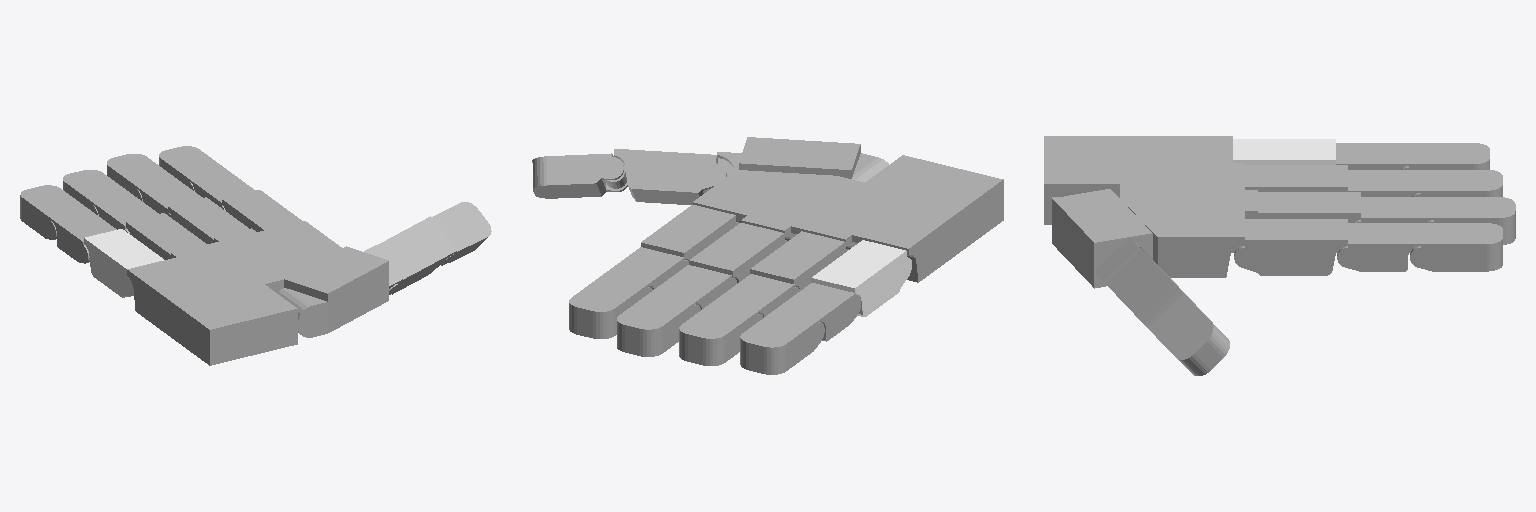
The robot description file, URDF, robot "f_tac_hand":
<?xml version="1.0"?>
<!-- This URDF was automatically created by SolidWorks to URDF Exporter! Originally created by
[author] ([email redacted])
     Commit Version: 1.6.0-1-g15f4949  Build Version: 1.6.7594.29634
     For more information, please see http://wiki.ros.org/sw_urdf_exporter -->
<robot
  name="f_tac_hand">
  <link name="base_link">
    <inertial>
      <origin
        xyz="0 0 0"
        rpy="0 0 0" />
      <mass
        value="0.10701" />
      <inertia
        ixx="4.0664E-05"
        ixy="6.4038E-08"
        ixz="1.9177E-06"
        iyy="5.6479E-05"
        iyz="7.7345E-07"
        izz="2.2587E-05" />
    </inertial>
    <visual>
      <origin
        xyz="0 0 0"
        rpy="0 0 0" />
      <geometry>
        <mesh
          filename="../meshes/base_link_rigid.obj" />
      </geometry>
      <material
        name="">
        <color
          rgba="0.75294 0.75294 0.75294 1" />
      </material>
    </visual>
    <collision>
      <origin
        xyz="0 0 0"
        rpy="0 0 0" />
      <geometry>
        <mesh
          filename="../meshes/base_link_rigid.obj" />
      </geometry>
    </collision>
  </link>
  <link
    name="thumb_1">
    <inertial>
      <origin
        xyz="0.0213809512788237 0.00830288099446848 -0.0368934211825852"
        rpy="0 0 0" />
      <mass
        value="0.0302068698189258" />
      <inertia
        ixx="4.47273437130782E-06"
        ixy="-2.41343638990869E-06"
        ixz="-2.18553315619696E-06"
        iyy="9.08198924826877E-06"
        iyz="-9.32985999670422E-07"
        izz="8.77443016411273E-06" />
    </inertial>
    <visual>
      <origin
        xyz="0 0 0"
        rpy="0 0 0" />
      <geometry>
        <mesh
          filename="../meshes/thumb_1_rigid.obj" />
      </geometry>
      <material
        name="">
        <color
          rgba="0.752941176470588 0.752941176470588 0.752941176470588 1" />
      </material>
    </visual>
    <collision>
      <origin
        xyz="0 0 0"
        rpy="0 0 0" />
      <geometry>
        <mesh
          filename="../meshes/thumb_1_rigid.obj" />
      </geometry>
    </collision>
  </link>
  <joint
    name="thumb_1"
    type="revolute">
    <origin
      xyz="0.0096545 -0.041173 0.026086"
      rpy="-1.5708 -0.41641 0" />
    <parent
      link="base_link" />
    <child
      link="thumb_1" />
    <axis
      xyz="0 0 1" />
    <limit
      lower="0"
      upper="1.57"
      effort="0"
      velocity="0" />
  </joint>
  <link
    name="thumb_2">
    <inertial>
      <origin
        xyz="0.0206182940275113 -0.0003046673401641 2.53574938824386E-13"
        rpy="0 0 0" />
      <mass
        value="0.012221479074921" />
      <inertia
        ixx="6.83102068665418E-07"
        ixy="-2.316217085618E-08"
        ixz="-3.53904923741628E-18"
        iyy="1.86039399915805E-06"
        iyz="1.24884420160806E-19"
        izz="1.76124570189393E-06" />
    </inertial>
    <visual>
      <origin
        xyz="0 0 0"
        rpy="0 0 0" />
      <geometry>
        <mesh
          filename="../meshes/thumb_2_rigid.obj" />
      </geometry>
      <material
        name="">
        <color
          rgba="0.752941176470588 0.752941176470588 0.752941176470588 1" />
      </material>
    </visual>
    <collision>
      <origin
        xyz="0 0 0"
        rpy="0 0 0" />
      <geometry>
        <mesh
          filename="../meshes/thumb_2_rigid.obj" />
      </geometry>
    </collision>
  </link>
  <joint
    name="thumb_2"
    type="revolute">
    <origin
      xyz="0.049122 0.023171 -0.023451"
      rpy="-2.4435 -0.3802 0.41641" />
    <parent
      link="thumb_1" />
    <child
      link="thumb_2" />
    <axis
      xyz="0 0 1" />
    <limit
      lower="-1.57"
      upper="0"
      effort="0"
      velocity="0" />
  </joint>
  <link
    name="thumb_3">
    <inertial>
      <origin
        xyz="0.0167824598987307 -0.00212872883309434 -3.08122971581781E-12"
        rpy="0 0 0" />
      <mass
        value="0.00745939900562187" />
      <inertia
        ixx="3.59429707528274E-07"
        ixy="6.07313946647049E-08"
        ixz="-8.23541017857794E-19"
        iyy="7.77158182113299E-07"
        iyz="4.5003919278805E-19"
        izz="6.51428092547374E-07" />
    </inertial>
    <visual>
      <origin
        xyz="0 0 0"
        rpy="0 0 0" />
      <geometry>
        <mesh
          filename="../meshes/thumb_3_rigid.obj" />
      </geometry>
      <material
        name="">
        <color
          rgba="0.752941176470588 0.752941176470588 0.752941176470588 1" />
      </material>
    </visual>
    <collision>
      <origin
        xyz="0 0 0"
        rpy="0 0 0" />
      <geometry>
        <mesh
          filename="../meshes/thumb_3_rigid.obj" />
      </geometry>
    </collision>
  </link>
  <joint
    name="thumb_3"
    type="revolute">
    <origin
      xyz="0.041 -0.00032615 0"
      rpy="0 0 0" />
    <parent
      link="thumb_2" />
    <child
      link="thumb_3" />
    <axis
      xyz="0 0 1" />
    <limit
      lower="-1.57"
      upper="0"
      effort="0"
      velocity="0" />
  </joint>
  <link
    name="index_1">
    <inertial>
      <origin
        xyz="0.0206182940275193 -2.14858231646839E-05 6.93889390390723E-18"
        rpy="0 0 0" />
      <mass
        value="0.012221479074921" />
      <inertia
        ixx="6.83102068665422E-07"
        ixy="2.31621708562653E-08"
        ixz="5.89026078332172E-23"
        iyy="1.86039399915805E-06"
        iyz="-1.31399405920735E-22"
        izz="1.76124570189393E-06" />
    </inertial>
    <visual>
      <origin
        xyz="0 0 0"
        rpy="0 0 0" />
      <geometry>
        <mesh
          filename="../meshes/f_1_rigid.obj" />
      </geometry>
      <material
        name="">
        <color
          rgba="0.752941176470588 0.752941176470588 0.752941176470588 1" />
      </material>
    </visual>
    <collision>
      <origin
        xyz="0 0 0"
        rpy="0 0 0" />
      <geometry>
        <mesh
          filename="../meshes/f_1_rigid.obj" />
      </geometry>
    </collision>
  </link>
  <joint
    name="index_1"
    type="revolute">
    <origin
      xyz="0.040154 -0.020691 0.027086"
      rpy="-1.5708 0 1.5708" />
    <parent
      link="base_link" />
    <child
      link="index_1" />
    <axis
      xyz="0 0 1" />
    <limit
      lower="0"
      upper="1.57"
      effort="0"
      velocity="0" />
  </joint>
  <link
    name="index_2">
    <inertial>
      <origin
        xyz="0.0152317229490134 3.42802053373108E-05 0"
        rpy="0 0 0" />
      <mass
        value="0.00625308632851355" />
      <inertia
        ixx="2.81797994660092E-07"
        ixy="2.23703220497108E-09"
        ixz="-1.43213634689837E-23"
        iyy="5.81864464611056E-07"
        iyz="-4.13998996125335E-23"
        izz="4.7329114501704E-07" />
    </inertial>
    <visual>
      <origin
        xyz="0 0 0"
        rpy="0 0 0" />
      <geometry>
        <mesh
          filename="../meshes/f_2_rigid.obj" />
      </geometry>
      <material
        name="">
        <color
          rgba="0.752941176470588 0.752941176470588 0.752941176470588 1" />
      </material>
    </visual>
    <collision>
      <origin
        xyz="0 0 0"
        rpy="0 0 0" />
      <geometry>
        <mesh
          filename="../meshes/f_2_rigid.obj" />
      </geometry>
    </collision>
  </link>
  <joint
    name="index_2"
    type="revolute">
    <origin
      xyz="0.041 0 0"
      rpy="0 0 0" />
    <parent
      link="index_1" />
    <child
      link="index_2" />
    <axis
      xyz="0 0 1" />
    <limit
      lower="0"
      upper="1.57"
      effort="0"
      velocity="0" />
  </joint>
  <link
    name="index_3">
    <inertial>
      <origin
        xyz="0.0168154407410035 0.000297686675871593 -6.93889390390723E-18"
        rpy="0 0 0" />
      <mass
        value="0.00745163347840583" />
      <inertia
        ixx="3.50729758374185E-07"
        ixy="-1.14358363153878E-08"
        ixz="-6.19619715471633E-23"
        iyy="7.93589625506845E-07"
        iyz="-7.39793916223962E-23"
        izz="6.56515010736982E-07" />
    </inertial>
    <visual>
      <origin
        xyz="0 0 0"
        rpy="0 0 0" />
      <geometry>
        <mesh
          filename="../meshes/f_3_rigid.obj" />
      </geometry>
      <material
        name="">
        <color
          rgba="0.752941176470588 0.752941176470588 0.752941176470588 1" />
      </material>
    </visual>
    <collision>
      <origin
        xyz="0 0 0"
        rpy="0 0 0" />
      <geometry>
        <mesh
          filename="../meshes/f_3_rigid.obj" />
      </geometry>
    </collision>
  </link>
  <joint
    name="index_3"
    type="revolute">
    <origin
      xyz="0.029 0 0"
      rpy="0 0 0" />
    <parent
      link="index_2" />
    <child
      link="index_3" />
    <axis
      xyz="0 0 1" />
    <limit
      lower="0"
      upper="1.57"
      effort="0"
      velocity="0" />
  </joint>
  <link
    name="middle_1">
    <inertial>
      <origin
        xyz="0.0206182940275192 -2.14858231645659E-05 -0.000400000000000006"
        rpy="0 0 0" />
      <mass
        value="0.012221479074921" />
      <inertia
        ixx="6.83102068665421E-07"
        ixy="2.31621708562653E-08"
        ixz="5.44029401262022E-23"
        iyy="1.86039399915804E-06"
        iyz="-3.06838458417649E-23"
        izz="1.76124570189393E-06" />
    </inertial>
    <visual>
      <origin
        xyz="0 0 0"
        rpy="0 0 0" />
      <geometry>
        <mesh
          filename="../meshes/f_1_rigid.obj" />
      </geometry>
      <material
        name="">
        <color
          rgba="0.752941176470588 0.752941176470588 0.752941176470588 1" />
      </material>
    </visual>
    <collision>
      <origin
        xyz="0 0 0"
        rpy="0 0 0" />
      <geometry>
        <mesh
          filename="../meshes/f_1_rigid.obj" />
      </geometry>
    </collision>
  </link>
  <joint
    name="middle_1"
    type="revolute">
    <origin
      xyz="0.015154 -0.015691 0.027086"
      rpy="-1.5708 0 1.5708" />
    <parent
      link="base_link" />
    <child
      link="middle_1" />
    <axis
      xyz="0 0 1" />
    <limit
      lower="0"
      upper="1.57"
      effort="0"
      velocity="0" />
  </joint>
  <link
    name="middle_2">
    <inertial>
      <origin
        xyz="0.0152317229490134 3.42802053372969E-05 1.73472347597681E-18"
        rpy="0 0 0" />
      <mass
        value="0.00625308632851354" />
      <inertia
        ixx="2.81797994660092E-07"
        ixy="2.23703220497124E-09"
        ixz="9.59697541416519E-23"
        iyy="5.81864464611055E-07"
        iyz="3.72987495237399E-24"
        izz="4.73291145017039E-07" />
    </inertial>
    <visual>
      <origin
        xyz="0 0 0"
        rpy="0 0 0" />
      <geometry>
        <mesh
          filename="../meshes/f_2_rigid.obj" />
      </geometry>
      <material
        name="">
        <color
          rgba="0.752941176470588 0.752941176470588 0.752941176470588 1" />
      </material>
    </visual>
    <collision>
      <origin
        xyz="0 0 0"
        rpy="0 0 0" />
      <geometry>
        <mesh
          filename="../meshes/f_2_rigid.obj" />
      </geometry>
    </collision>
  </link>
  <joint
    name="middle_2"
    type="revolute">
    <origin
      xyz="0.041 0 -0.0004"
      rpy="0 0 0" />
    <parent
      link="middle_1" />
    <child
      link="middle_2" />
    <axis
      xyz="0 0 1" />
    <limit
      lower="0"
      upper="1.57"
      effort="0"
      velocity="0" />
  </joint>
  <link
    name="middle_3">
    <inertial>
      <origin
        xyz="0.0168154407410034 0.0002976866758716 3.46944695195361E-18"
        rpy="0 0 0" />
      <mass
        value="0.00745163347840582" />
      <inertia
        ixx="3.50729758374184E-07"
        ixy="-1.14358363153877E-08"
        ixz="-2.28818091485651E-23"
        iyy="7.93589625506844E-07"
        iyz="-9.29509723535121E-24"
        izz="6.5651501073698E-07" />
    </inertial>
    <visual>
      <origin
        xyz="0 0 0"
        rpy="0 0 0" />
      <geometry>
        <mesh
          filename="../meshes/f_3_rigid.obj" />
      </geometry>
      <material
        name="">
        <color
          rgba="0.752941176470588 0.752941176470588 0.752941176470588 1" />
      </material>
    </visual>
    <collision>
      <origin
        xyz="0 0 0"
        rpy="0 0 0" />
      <geometry>
        <mesh
          filename="../meshes/f_3_rigid.obj" />
      </geometry>
    </collision>
  </link>
  <joint
    name="middle_3"
    type="revolute">
    <origin
      xyz="0.029 0 0"
      rpy="0 0 0" />
    <parent
      link="middle_2" />
    <child
      link="middle_3" />
    <axis
      xyz="0 0 1" />
    <limit
      lower="0"
      upper="1.57"
      effort="0"
      velocity="0" />
  </joint>
  <link
    name="ring_1">
    <inertial>
      <origin
        xyz="0.0206182940275192 -2.14858231647221E-05 0.000399999999999991"
        rpy="0 0 0" />
      <mass
        value="0.012221479074921" />
      <inertia
        ixx="6.83102068665422E-07"
        ixy="2.31621708562655E-08"
        ixz="-3.31833779725001E-23"
        iyy="1.86039399915805E-06"
        iyz="-8.58840580412324E-23"
        izz="1.76124570189393E-06" />
    </inertial>
    <visual>
      <origin
        xyz="0 0 0"
        rpy="0 0 0" />
      <geometry>
        <mesh
          filename="../meshes/f_1_rigid.obj" />
      </geometry>
      <material
        name="">
        <color
          rgba="0.752941176470588 0.752941176470588 0.752941176470588 1" />
      </material>
    </visual>
    <collision>
      <origin
        xyz="0 0 0"
        rpy="0 0 0" />
      <geometry>
        <mesh
          filename="../meshes/f_1_rigid.obj" />
      </geometry>
    </collision>
  </link>
  <joint
    name="ring_1"
    type="revolute">
    <origin
      xyz="-0.0098455 -0.020691 0.027086"
      rpy="-1.5708 0 1.5708" />
    <parent
      link="base_link" />
    <child
      link="ring_1" />
    <axis
      xyz="0 0 1" />
    <limit
      lower="0"
      upper="1.57"
      effort="0"
      velocity="0" />
  </joint>
  <link
    name="ring_2">
    <inertial>
      <origin
        xyz="0.0152317229490134 3.42802053373038E-05 -1.73472347597681E-18"
        rpy="0 0 0" />
      <mass
        value="0.00625308632851355" />
      <inertia
        ixx="2.81797994660092E-07"
        ixy="2.2370322049711E-09"
        ixz="-2.08495449111798E-23"
        iyy="5.81864464611055E-07"
        iyz="-2.33824894866571E-23"
        izz="4.7329114501704E-07" />
    </inertial>
    <visual>
      <origin
        xyz="0 0 0"
        rpy="0 0 0" />
      <geometry>
        <mesh
          filename="../meshes/f_2_rigid.obj" />
      </geometry>
      <material
        name="">
        <color
          rgba="0.752941176470588 0.752941176470588 0.752941176470588 1" />
      </material>
    </visual>
    <collision>
      <origin
        xyz="0 0 0"
        rpy="0 0 0" />
      <geometry>
        <mesh
          filename="../meshes/f_2_rigid.obj" />
      </geometry>
    </collision>
  </link>
  <joint
    name="ring_2"
    type="revolute">
    <origin
      xyz="0.041 0 0.0004"
      rpy="0 0 0" />
    <parent
      link="ring_1" />
    <child
      link="ring_2" />
    <axis
      xyz="0 0 1" />
    <limit
      lower="0"
      upper="1.57"
      effort="0"
      velocity="0" />
  </joint>
  <link
    name="ring_3">
    <inertial>
      <origin
        xyz="0.0168154407410034 0.000297686675871593 0"
        rpy="0 0 0" />
      <mass
        value="0.00745163347840583" />
      <inertia
        ixx="3.50729758374185E-07"
        ixy="-1.14358363153878E-08"
        ixz="-5.172522775928E-23"
        iyy="7.93589625506845E-07"
        iyz="-7.30600138204954E-23"
        izz="6.56515010736981E-07" />
    </inertial>
    <visual>
      <origin
        xyz="0 0 0"
        rpy="0 0 0" />
      <geometry>
        <mesh
          filename="../meshes/f_3_rigid.obj" />
      </geometry>
      <material
        name="">
        <color
          rgba="0.752941176470588 0.752941176470588 0.752941176470588 1" />
      </material>
    </visual>
    <collision>
      <origin
        xyz="0 0 0"
        rpy="0 0 0" />
      <geometry>
        <mesh
          filename="../meshes/f_3_rigid.obj" />
      </geometry>
    </collision>
  </link>
  <joint
    name="ring_3"
    type="revolute">
    <origin
      xyz="0.029 0 0"
      rpy="0 0 0" />
    <parent
      link="ring_2" />
    <child
      link="ring_3" />
    <axis
      xyz="0 0 1" />
    <limit
      lower="0"
      upper="1.57"
      effort="0"
      velocity="0" />
  </joint>
  <link
    name="little_1">
    <inertial>
      <origin
        xyz="0 0 0"
        rpy="0 0 0" />
      <mass
        value="0" />
      <inertia
        ixx="0"
        ixy="0"
        ixz="0"
        iyy="0"
        iyz="0"
        izz="0" />
    </inertial>
    <visual>
      <origin
        xyz="0 0 0"
        rpy="0 0 0" />
      <geometry>
        <mesh
          filename="../meshes/f_1_rigid.obj" />
      </geometry>
      <material
        name="">
        <color
          rgba="1 1 1 1" />
      </material>
    </visual>
    <collision>
      <origin
        xyz="0 0 0"
        rpy="0 0 0" />
      <geometry>
        <mesh
          filename="../meshes/f_1_rigid.obj" />
      </geometry>
    </collision>
  </link>
  <joint
    name="little_1"
    type="revolute">
    <origin
      xyz="-0.034846 -0.025691 0.027086"
      rpy="-1.5708 0 1.5708" />
    <parent
      link="base_link" />
    <child
      link="little_1" />
    <axis
      xyz="0 0 1" />
    <limit
      lower="0"
      upper="1.57"
      effort="0"
      velocity="0" />
  </joint>
  <link
    name="little_2">
    <inertial>
      <origin
        xyz="0.0152317229490134 3.42802053373004E-05 -6.93889390390723E-18"
        rpy="0 0 0" />
      <mass
        value="0.00625308632851354" />
      <inertia
        ixx="2.81797994660092E-07"
        ixy="2.23703220497117E-09"
        ixz="7.83072407490035E-24"
        iyy="5.81864464611055E-07"
        iyz="-8.43175147128047E-25"
        izz="4.73291145017039E-07" />
    </inertial>
    <visual>
      <origin
        xyz="0 0 0"
        rpy="0 0 0" />
      <geometry>
        <mesh
          filename="../meshes/f_2_rigid.obj" />
      </geometry>
      <material
        name="">
        <color
          rgba="0.752941176470588 0.752941176470588 0.752941176470588 1" />
      </material>
    </visual>
    <collision>
      <origin
        xyz="0 0 0"
        rpy="0 0 0" />
      <geometry>
        <mesh
          filename="../meshes/f_2_rigid.obj" />
      </geometry>
    </collision>
  </link>
  <joint
    name="little_2"
    type="revolute">
    <origin
      xyz="0.041 0 0.0004"
      rpy="0 0 0" />
    <parent
      link="little_1" />
    <child
      link="little_2" />
    <axis
      xyz="0 0 1" />
    <limit
      lower="0"
      upper="1.57"
      effort="0"
      velocity="0" />
  </joint>
  <link
    name="little_3">
    <inertial>
      <origin
        xyz="0.0168154407410034 0.000297686675871597 6.93889390390723E-18"
        rpy="0 0 0" />
      <mass
        value="0.00745163347840582" />
      <inertia
        ixx="3.50729758374184E-07"
        ixy="-1.14358363153877E-08"
        ixz="5.72914976887502E-23"
        iyy="7.93589625506844E-07"
        iyz="3.10355823717583E-24"
        izz="6.56515010736981E-07" />
    </inertial>
    <visual>
      <origin
        xyz="0 0 0"
        rpy="0 0 0" />
      <geometry>
        <mesh
          filename="../meshes/f_3_rigid.obj" />
      </geometry>
      <material
        name="">
        <color
          rgba="0.752941176470588 0.752941176470588 0.752941176470588 1" />
      </material>
    </visual>
    <collision>
      <origin
        xyz="0 0 0"
        rpy="0 0 0" />
      <geometry>
        <mesh
          filename="../meshes/f_3_rigid.obj" />
      </geometry>
    </collision>
  </link>
  <joint
    name="little_3"
    type="revolute">
    <origin
      xyz="0.029 0 0"
      rpy="0 0 0" />
    <parent
      link="little_2" />
    <child
      link="little_3" />
    <axis
      xyz="0 0 1" />
    <limit
      lower="0"
      upper="1.57"
      effort="0"
      velocity="0" />
  </joint>
</robot>

--- What the picture shows (computed from the rendered views, not written in the file) ---
Views: 3 orthographic renders of the robot side by side, from view 1: azimuth 30°, elevation 25°; view 2: azimuth 150°, elevation 25°; view 3: azimuth 270°, elevation 25°.
Model f_tac_hand with 16 links and 15 joints (15 revolute), rooted at base_link, posed all joints at 0.
Links seen in each view (by area): view 1: base_link, thumb_1, thumb_2, little_1, little_3, thumb_3, middle_1, ring_1, index_1, little_2, middle_3, ring_3 (+4 smaller); view 2: base_link, thumb_1, thumb_2, little_1, little_3, middle_3, ring_3, thumb_3, index_3, middle_1, ring_1, index_1 (+4 smaller); view 3: base_link, thumb_1, index_1, index_3, thumb_3, index_2, thumb_2, middle_1, ring_1, little_1, middle_3, ring_3 (+4 smaller).
Link boxes in pixels (bbox=[...]): base_link: bbox=[127, 221, 341, 365]; thumb_1: bbox=[277, 245, 402, 337]; thumb_2: bbox=[377, 216, 457, 294]; little_1: bbox=[84, 229, 163, 297]; little_3: bbox=[20, 185, 87, 239]; thumb_3: bbox=[432, 202, 491, 265]; middle_1: bbox=[168, 197, 248, 243]; ring_1: bbox=[126, 213, 206, 259]; index_1: bbox=[222, 190, 301, 231]; little_2: bbox=[51, 209, 116, 263]; middle_3: bbox=[107, 154, 174, 201]; ring_3: bbox=[63, 170, 130, 215]; base_link: bbox=[693, 155, 1003, 282]; thumb_1: bbox=[708, 137, 888, 190]; thumb_2: bbox=[605, 149, 726, 204]; little_1: bbox=[811, 240, 911, 316]; little_3: bbox=[740, 309, 824, 374]; middle_3: bbox=[617, 292, 700, 356]; ring_3: bbox=[679, 301, 762, 365]; thumb_3: bbox=[532, 153, 627, 198]; index_3: bbox=[569, 274, 652, 338]; middle_1: bbox=[689, 223, 787, 282]; ring_1: bbox=[750, 231, 848, 290]; index_1: bbox=[641, 205, 738, 260]; base_link: bbox=[1044, 136, 1257, 277]; thumb_1: bbox=[1052, 189, 1153, 288]; index_1: bbox=[1234, 219, 1347, 275]; index_3: bbox=[1410, 223, 1502, 271]; thumb_3: bbox=[1148, 293, 1229, 375]; index_2: bbox=[1337, 223, 1420, 271]; thumb_2: bbox=[1106, 249, 1195, 327]; middle_1: bbox=[1258, 192, 1360, 222]; ring_1: bbox=[1245, 165, 1347, 191]; little_1: bbox=[1233, 139, 1335, 164]; middle_3: bbox=[1426, 197, 1515, 244]; ring_3: bbox=[1412, 170, 1502, 196].
Bounding box of the posed robot: 0.1802 × 0.1875 × 0.0267 m (x, y, z).
16 mesh visuals loaded from 7 distinct referenced files (7 OBJ).